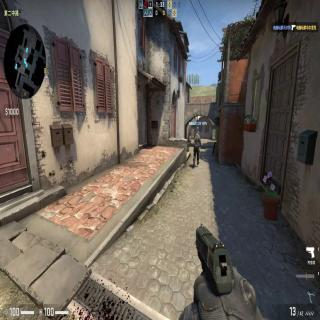CT-Body: (192, 131, 201, 168)
CT-Head: (197, 131, 199, 136)
